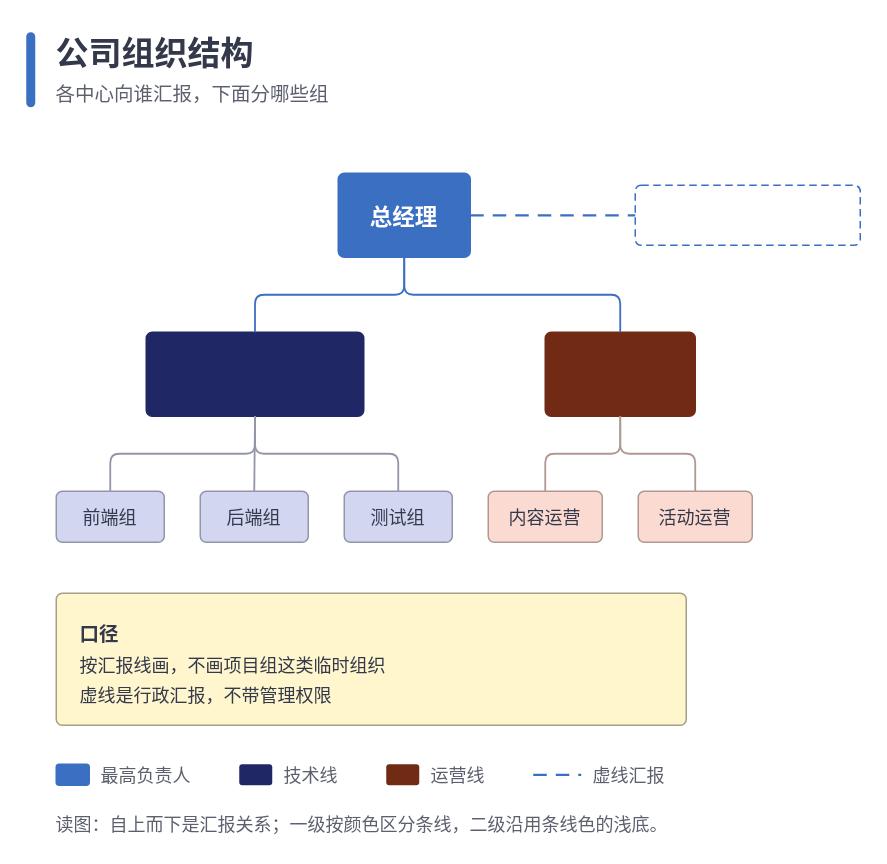
This 887x864 diagram has some shape labels left out. The centre of each missing label's shape, as x and y in pixels:
"总经理助理" goes at pixel 747 214.
"技术中心 研发 · 测试 · 运维" goes at pixel 254 373.
"运营中心 内容 · 活动" goes at pixel 619 373.
